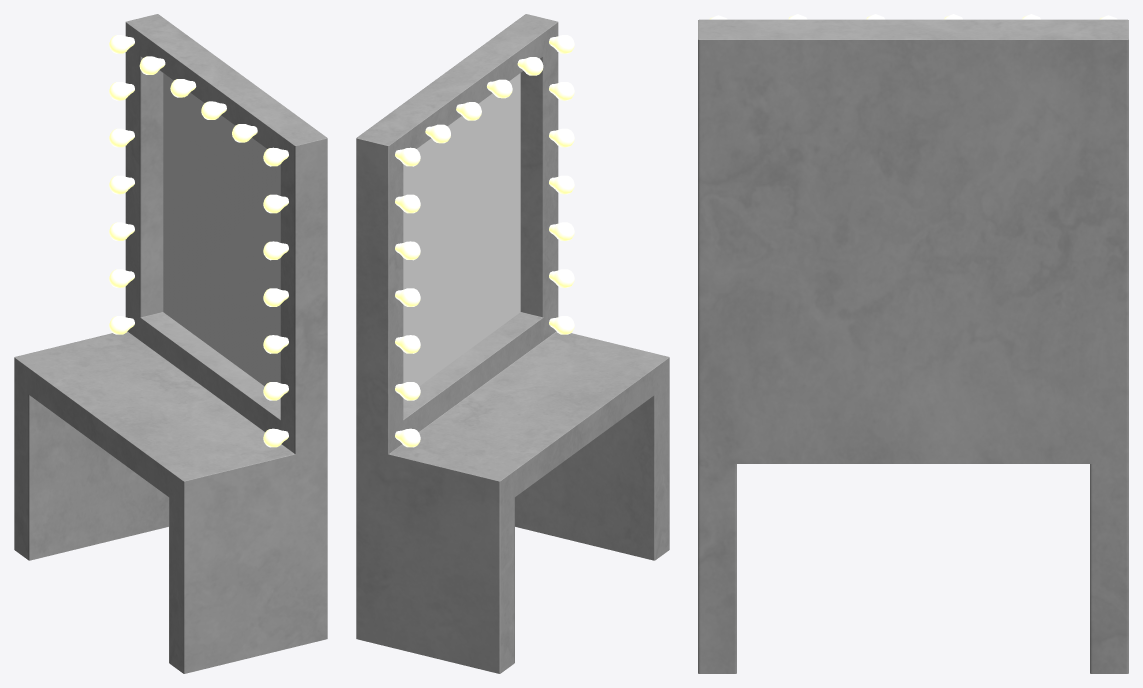
3 views of the same model, side by side, from view 1: azimuth 30°, elevation 25°; view 2: azimuth 150°, elevation 25°; view 3: azimuth 270°, elevation 25° (orthographic). The views are drawn at different scales.
Parts seen in each view (by area): view 1: focos nuevos_0; view 2: focos nuevos_0; view 3: focos nuevos_0.
Part boxes in pixels (box(x1,y1,x2,y2)): focos nuevos_0: box(14, 14, 327, 673); focos nuevos_0: box(356, 14, 669, 673); focos nuevos_0: box(698, 14, 1128, 673).
Size of the model in its own units: 0.5745 by 1.91 by 1.17.
Materials: 3 (1 with a texture image).
